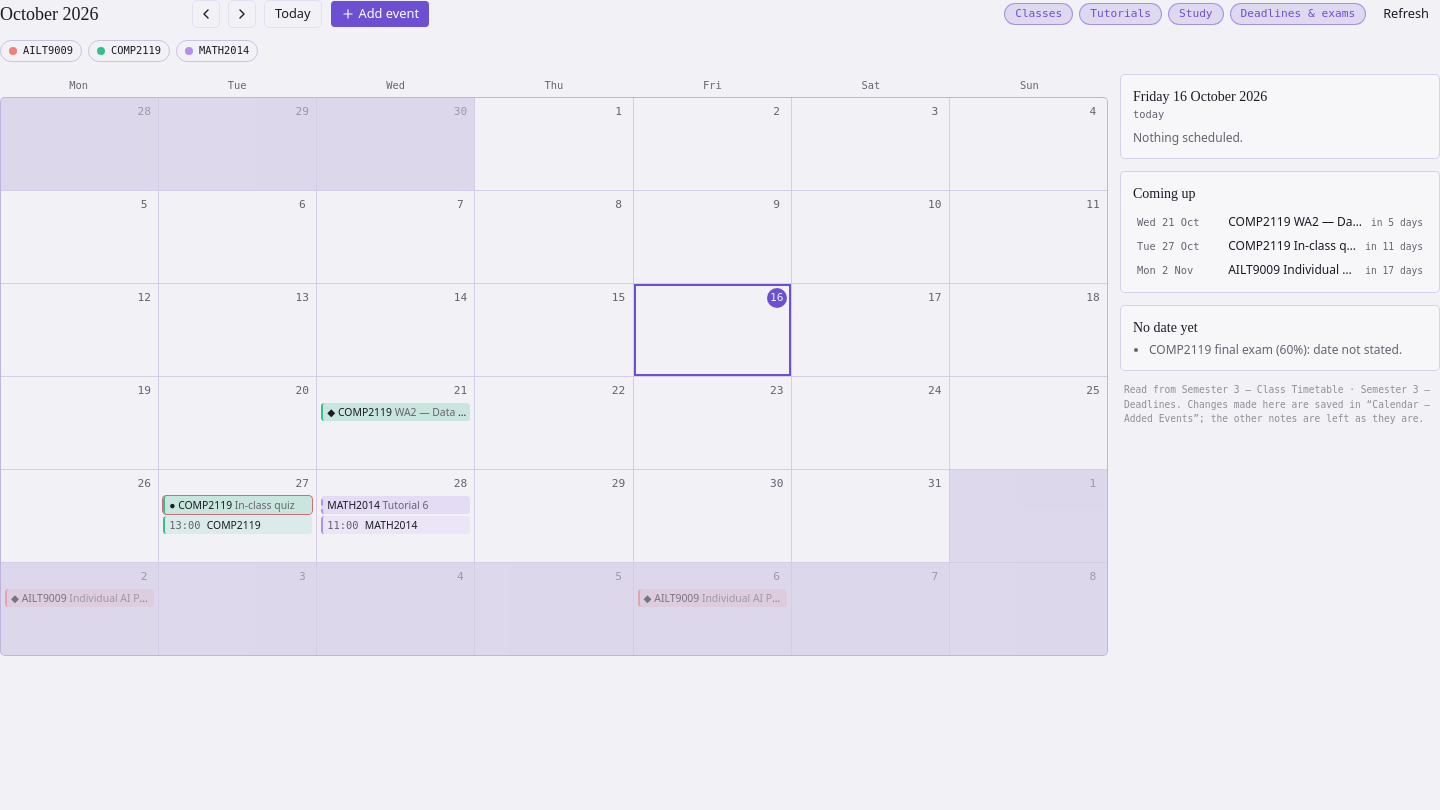
Test: CalendarPanel › editing the calendar › shows the backend's reason when it refuses an event and keeps the form open
Expected: the element with test id "calendar-grid" is shown, [0,97,1108,656]
Expected: the text "Read from" is shown, [1124,384,1182,395]
Click the button with test id "add-event": coordinates (380, 14) [330,0,430,28]
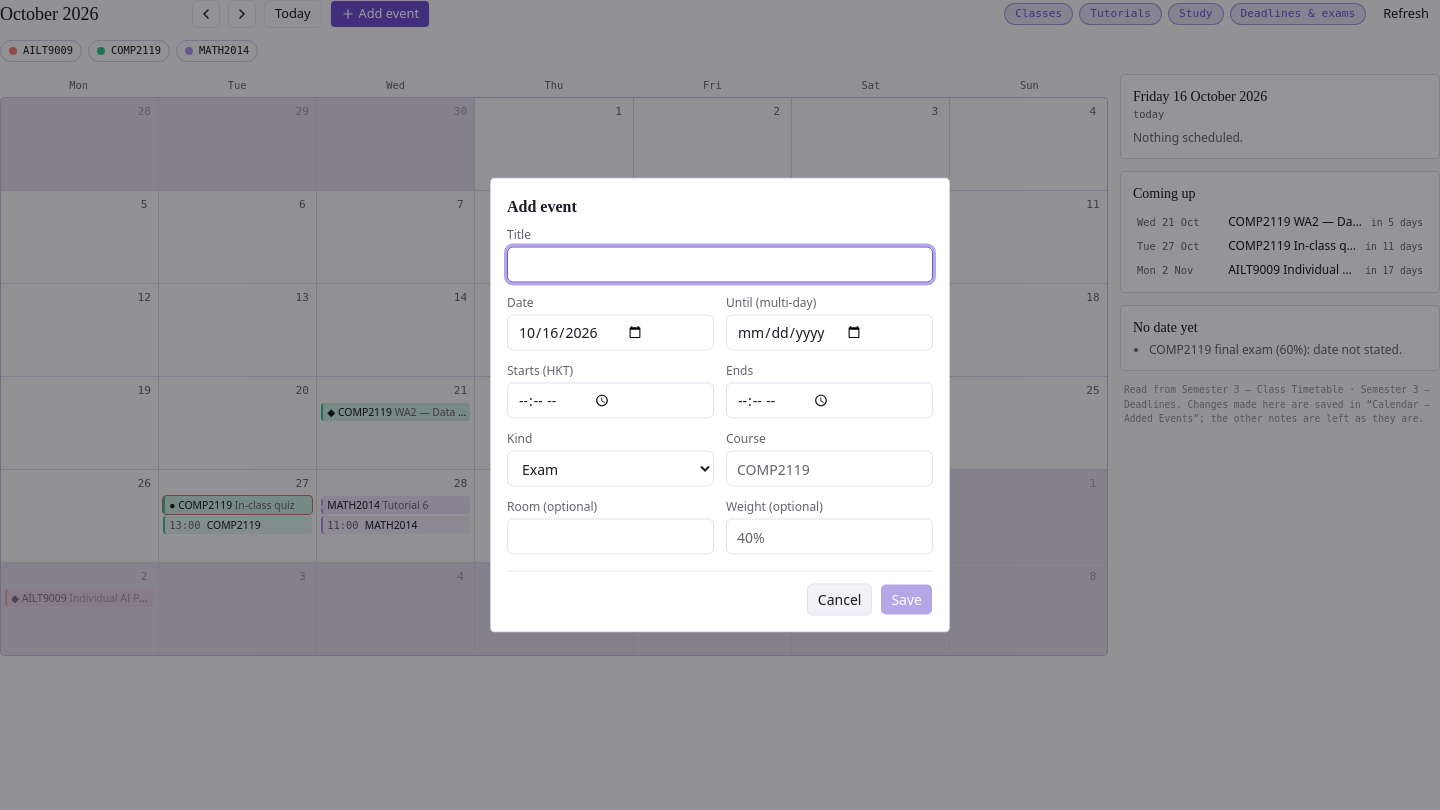
In the field labelled "Title": coordinates (720, 264) [507,246,933,282], type "Bad"
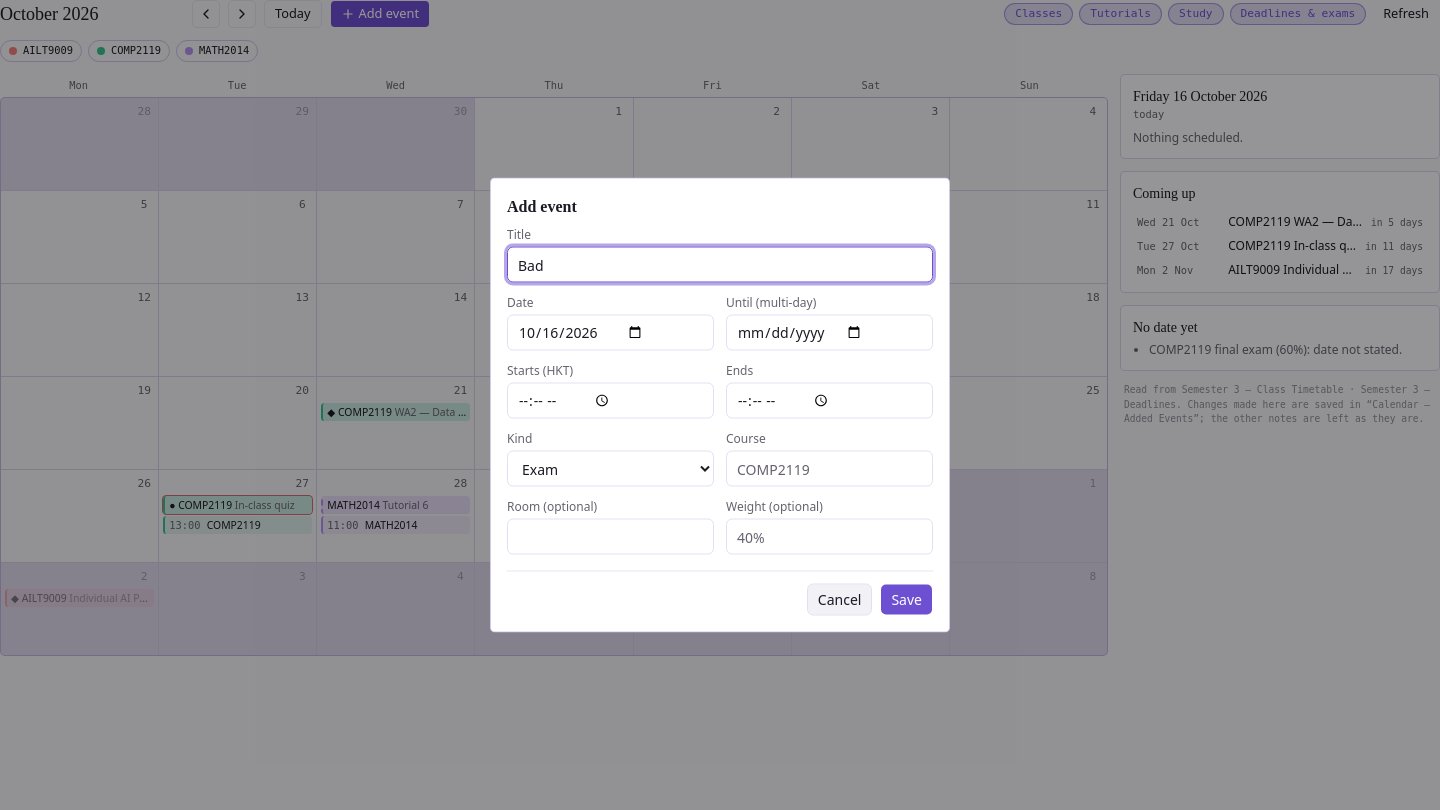
Click the button "Save": coordinates (907, 600) [880,584,933,616]
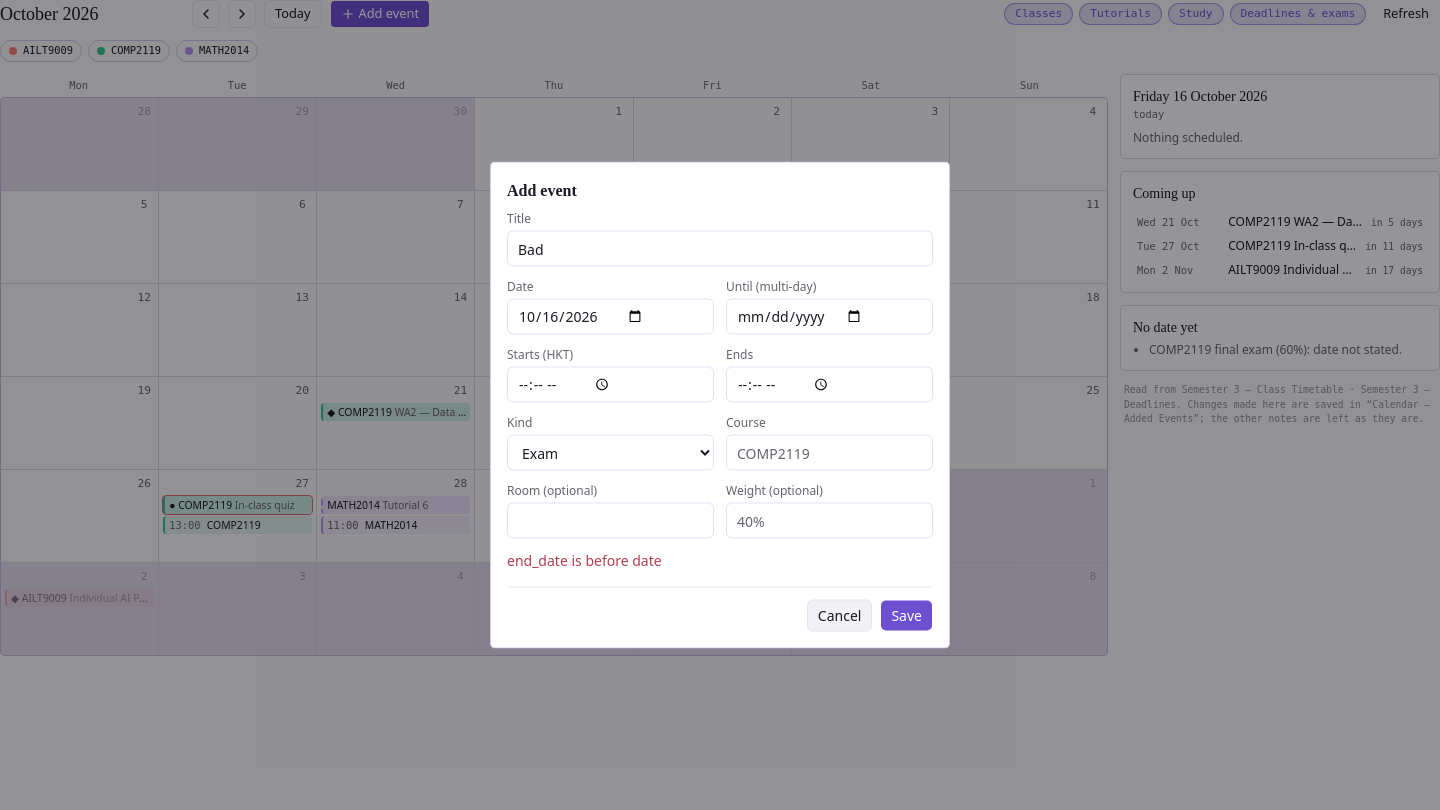
Expected: the message reads "end_date is before date", [507,550,662,570]
